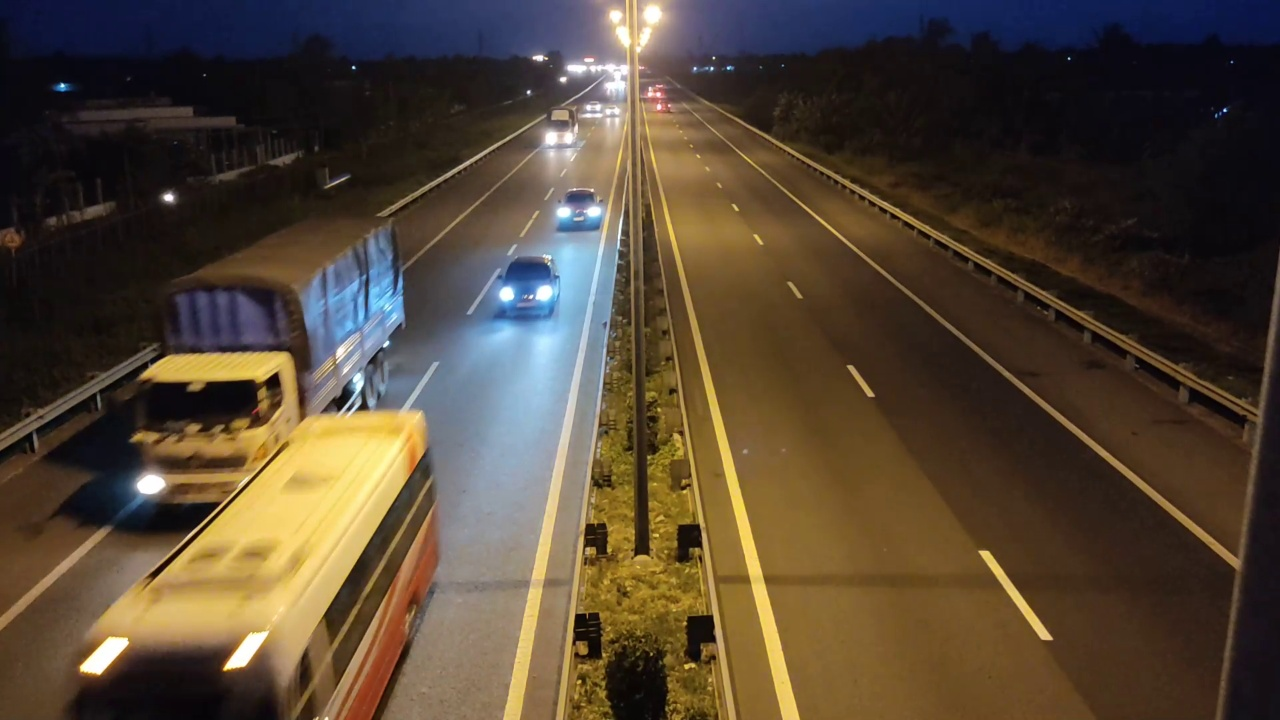bus: (69, 409, 444, 715)
car: (493, 255, 561, 321), (555, 187, 605, 231)
truck: (122, 213, 408, 517)
